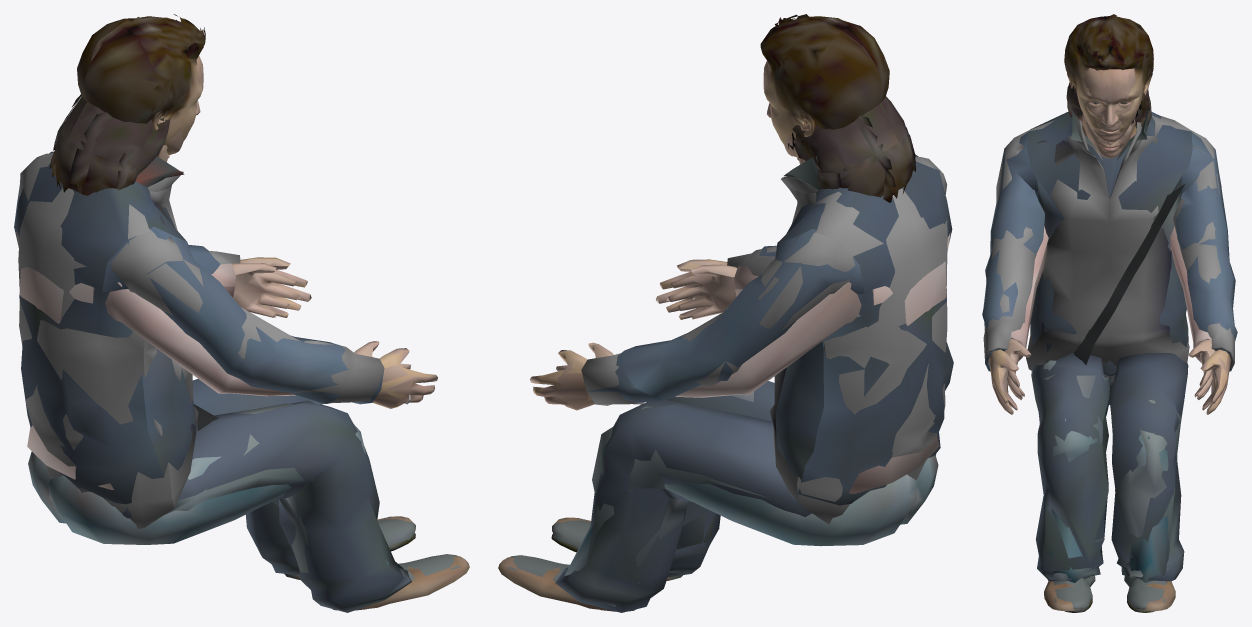
File: car-drivers.glb
3 views of the same model, side by side, from view 1: azimuth 30°, elevation 25°; view 2: azimuth 150°, elevation 25°; view 3: azimuth 270°, elevation 25° (orthographic). The views are drawn at different scales.
Visible parts, largest first — view 1: seated_driver_police, seated_driver_0, seated_driver_1; view 2: seated_driver_police, seated_driver_0, seated_driver_1; view 3: seated_driver_police, seated_driver_0, seated_driver_1.
Part boxes in pixels (x1=…): seated_driver_police: x1=14, y1=14, x2=460, y2=612; seated_driver_0: x1=18, y1=56, x2=469, y2=609; seated_driver_1: x1=16, y1=94, x2=415, y2=567; seated_driver_police: x1=507, y1=14, x2=953, y2=612; seated_driver_0: x1=498, y1=61, x2=947, y2=610; seated_driver_1: x1=551, y1=96, x2=950, y2=575; seated_driver_police: x1=982, y1=14, x2=1237, y2=609; seated_driver_0: x1=983, y1=67, x2=1234, y2=611; seated_driver_1: x1=1004, y1=82, x2=1215, y2=612.
Bounding box in the file's own units: 0.8726 × 1.25 × 0.5914.
